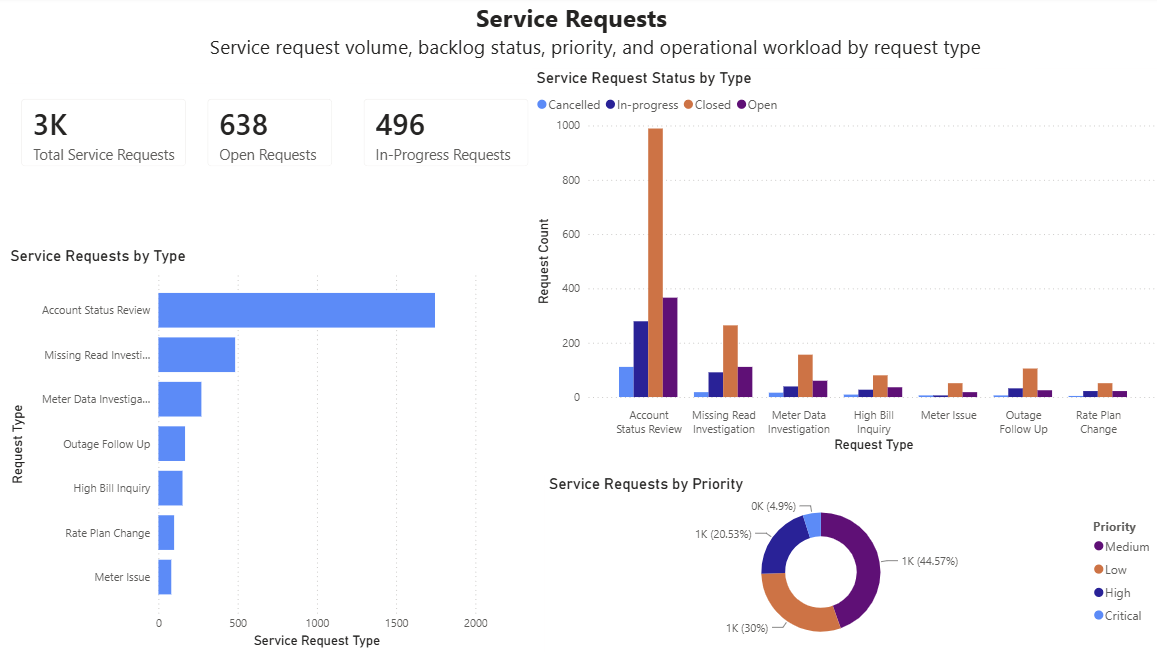

The page's visual inventory and layout, read from the dashboard file:
{"tool":"powerbi","page":{"name":"Service Requests","canvas":[1280,720],"ordinal":3},"visuals":[{"type":"textbox","box":[9.6,0,1270.7,79.6],"z":0},{"type":"cardVisual","fields":{"Data":["Sum(Service Requests.service_request_count)"]},"box":[9.6,96.1,215.4,108.4],"z":1},{"type":"cardVisual","fields":{"Data":["Sum(Service Requests.open_requests)"]},"box":[214.1,96.1,171.5,108.4],"z":2},{"type":"cardVisual","fields":{"Data":["Sum(Service Requests.in_progress_requests)"]},"box":[385.6,96.1,215.4,108.4],"z":3},{"type":"clusteredBarChart","title":"Service Requests by Type","fields":{"Category":["Service Requests.request_type"],"Y":["Sum(Service Requests.service_request_count)"]},"box":[9.6,274.4,533.8,446],"z":4},{"type":"clusteredColumnChart","title":"Service Request Status by Type","fields":{"Y":["Sum(Service Requests.cancelled_requests)","Sum(Service Requests.in_progress_requests)","Sum(Service Requests.closed_requests)","Sum(Service Requests.open_requests)"],"Category":["Service Requests.request_type"]},"box":[587.3,79.6,693,425.4],"z":5},{"type":"donutChart","title":"Service Requests by Priority","fields":{"Category":["Service Requests.priority"],"Y":["Sum(Service Requests.service_request_count)"]},"box":[601,525.6,679.2,194.9],"z":6}]}

Visuals, with their boxes in screenshot pixels (x1, y1, x2, y2), scaled from the page's 1280x720 canvas onto the 1157x652 screenshot:
textbox: [9,0,1156,72]
cardVisual - Sum(Service Requests.service_request_count): [9,87,203,185]
cardVisual - Sum(Service Requests.open_requests): [194,87,349,185]
cardVisual - Sum(Service Requests.in_progress_requests): [349,87,543,185]
"Service Requests by Type" clusteredBarChart: [9,248,491,651]
"Service Request Status by Type" clusteredColumnChart: [531,72,1156,457]
"Service Requests by Priority" donutChart: [543,476,1156,651]
